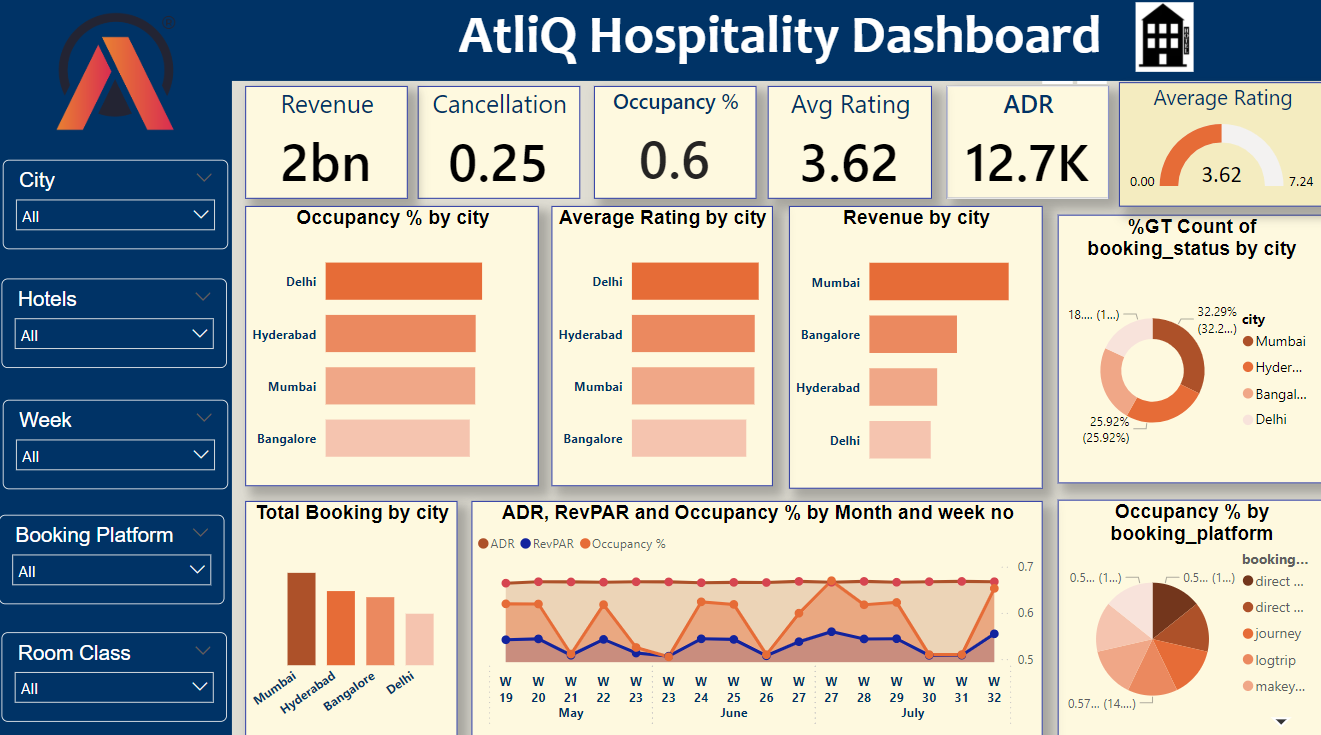

This screenshot's page, from the dashboard's own definition file:
{"tool":"powerbi","page":{"name":"Page 1","canvas":[1280,720],"ordinal":0},"visuals":[{"type":"shape","box":[0,5.8,225,713.5],"z":0},{"type":"card","title":"ADR","fields":{"Values":["key measures.ADR"]},"box":[914,92,156.5,108.6],"z":1000},{"type":"card","title":"Cancellation","fields":{"Values":["key measures.Cancellation %"]},"box":[404,92,156.5,108.6],"z":2000},{"type":"card","title":"Occupancy %","fields":{"Values":["key measures.Occupancy %"]},"box":[574.3,92,156.5,108.6],"z":3000},{"type":"card","title":"Avg Rating","fields":{"Values":["key measures.Average Rating"]},"box":[742,92,158.3,108.6],"z":4000},{"type":"card","title":"Revenue","fields":{"Values":["key measures.Revenue"]},"box":[237.5,92,156.5,108.6],"z":5000},{"type":"barChart","fields":{"Y":["key measures.Revenue"],"Category":["dim_hotels.city"]},"box":[762.1,208,244.8,272.4],"z":6000},{"type":"barChart","fields":{"Y":["key measures.Occupancy %"],"Category":["dim_hotels.city"]},"box":[237.5,208,283.5,270.6],"z":7000},{"type":"barChart","fields":{"Y":["key measures.Average Rating"],"Category":["dim_hotels.city"]},"box":[533.8,208,213.5,270.6],"z":8000},{"type":"donutChart","fields":{"Category":["dim_hotels.city"],"Y":["CountNonNull(fact_bookings.booking_status)"]},"box":[1021.7,215.4,257.7,259.6],"z":9000},{"type":"pieChart","fields":{"Y":["key measures.Occupancy %"],"Category":["fact_bookings.booking_platform"]},"box":[1021.7,491.5,257.7,228.3],"z":10000},{"type":"shape","box":[217.3,5.8,1061.5,80.8],"z":11000},{"type":"gauge","fields":{"Y":["key measures.Average Rating"]},"box":[1080.6,88.4,198.8,119.7],"z":12000},{"type":"columnChart","fields":{"Category":["dim_hotels.city"],"Y":["key measures.Total Booking"]},"box":[237.5,492.2,204.9,227.9],"z":13000},{"type":"areaChart","fields":{"Category":["dim_date.mmm yy.Variation.Date Hierarchy.Month","dim_date.week no"],"Y":["key measures.ADR","key measures.RevPAR"],"Y2":["key measures.Occupancy %"]},"box":[455.8,492.2,551.6,227.9],"z":14000},{"type":"shape","box":[226.9,0,1053.8,80.8],"z":15000},{"type":"slicer","fields":{"Values":["dim_hotels.city"]},"box":[3.8,163.5,217.3,86.5],"z":16000},{"type":"slicer","fields":{"Values":["dim_hotels.property_name"]},"box":[3,276.9,217.3,86.5],"z":17000},{"type":"slicer","fields":{"Values":["dim_date.week no"]},"box":[3.8,394.2,217.3,86],"z":18000},{"type":"slicer","fields":{"Values":["fact_bookings.booking_platform"]},"box":[0,505.8,217.3,86.5],"z":19000},{"type":"image","box":[50,11.5,128.8,128.8],"z":20000},{"type":"image","box":[1080.8,5.8,88.5,76.9],"z":21000},{"type":"slicer","fields":{"Values":["dim_rooms.room_class"]},"box":[3,619.2,217.3,86.5],"z":22000}]}

Visuals, with their boxes in screenshot pixels (x1, y1, x2, y2), scaled from the page's 1280x720 canvas onto the 1321x735 screenshot:
shape: [0,6,232,734]
"ADR" card: [943,94,1105,205]
"Cancellation" card: [417,94,578,205]
"Occupancy %" card: [593,94,754,205]
"Avg Rating" card: [766,94,929,205]
"Revenue" card: [245,94,407,205]
barChart - key measures.Revenue x dim_hotels.city: [787,212,1039,490]
barChart - key measures.Occupancy % x dim_hotels.city: [245,212,538,489]
barChart - key measures.Average Rating x dim_hotels.city: [551,212,771,489]
donutChart - dim_hotels.city x CountNonNull(fact_bookings.booking_status): [1054,220,1320,485]
pieChart - key measures.Occupancy % x fact_bookings.booking_platform: [1054,502,1320,734]
shape: [224,6,1320,88]
gauge - key measures.Average Rating: [1115,90,1320,212]
columnChart - dim_hotels.city x key measures.Total Booking: [245,502,457,734]
areaChart - dim_date.mmm yy.Variation.Date Hierarchy.Month x dim_date.week no: [470,502,1040,734]
shape: [234,0,1320,82]
slicer - dim_hotels.city: [4,167,228,255]
slicer - dim_hotels.property_name: [3,283,227,371]
slicer - dim_date.week no: [4,402,228,490]
slicer - fact_bookings.booking_platform: [0,516,224,605]
image: [52,12,185,143]
image: [1115,6,1207,84]
slicer - dim_rooms.room_class: [3,632,227,720]
